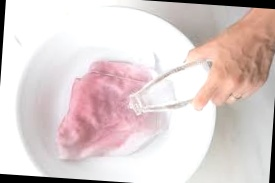wine: (62, 57, 164, 160)
